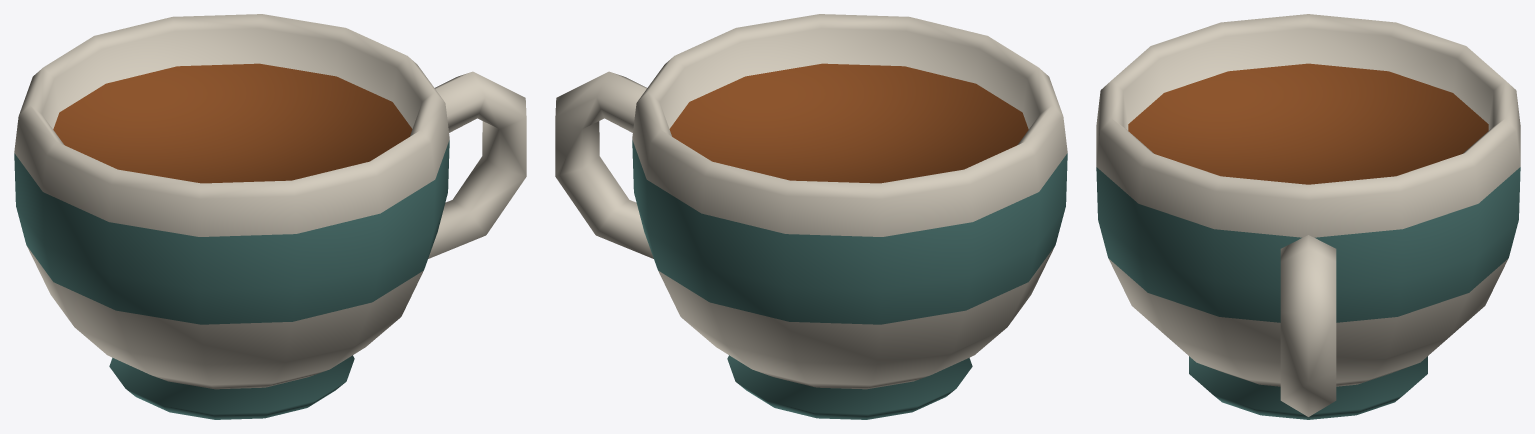
Rendered from PRP_Teacup_A.fbx.
3 renders of one model, left to right at view 1: azimuth 30°, elevation 25°; view 2: azimuth 150°, elevation 25°; view 3: azimuth 270°, elevation 25°, orthographic.
Parts seen in each view (by area): view 1: PRP_Teacup_A_LOD0; view 2: PRP_Teacup_A_LOD0; view 3: PRP_Teacup_A_LOD0.
Boxes of the visible parts, x1,y1,x2,y2 form: PRP_Teacup_A_LOD0: (14,14,526,419); PRP_Teacup_A_LOD0: (555,14,1067,419); PRP_Teacup_A_LOD0: (1096,14,1520,419).
Size of what is drawn, in the model's own units: 0.0644 by 0.035 by 0.0491.
